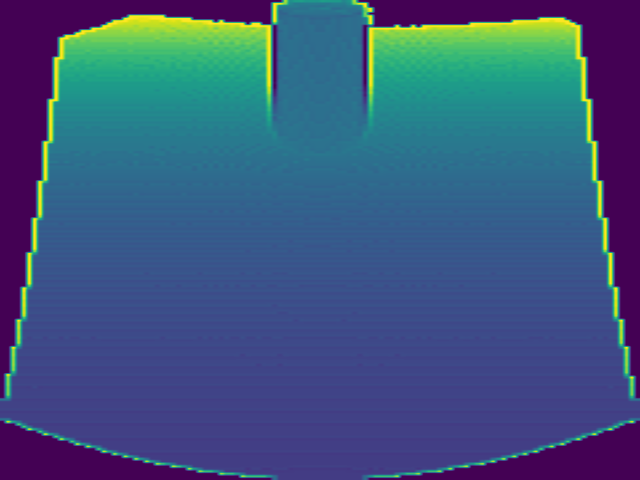cylinder: (267, 1, 375, 146)
